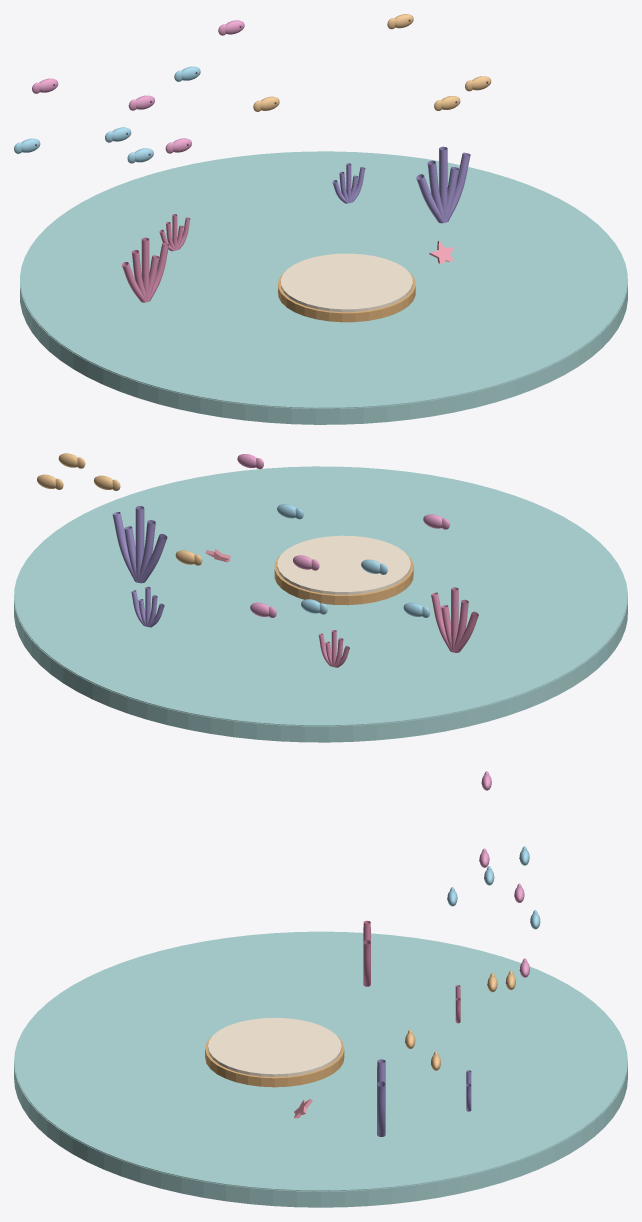
The model's file is mar.glb.
3 views of the same model, one above another, from view 1: azimuth 30°, elevation 25°; view 2: azimuth 150°, elevation 25°; view 3: azimuth 270°, elevation 25° (orthographic).
Visible parts, largest first — view 1: Diorama piping.013, Diorama base.013, Look pedestal.013, Look pedestal trim.013, Coral.007; view 2: Diorama piping.013, Diorama base.013, Look pedestal.013, Look pedestal trim.013, Coral.007, Coral.009, Coral.006, Coral.005, Coral.002; view 3: Diorama piping.013, Diorama base.013, Look pedestal.013, Look pedestal trim.013.
Part boxes in pixels (x1,y1,x2,y2): Diorama piping.013: (20, 151, 627, 408); Diorama base.013: (20, 238, 627, 424); Look pedestal.013: (280, 253, 412, 312); Look pedestal trim.013: (278, 271, 415, 322); Coral.007: (439, 146, 447, 221); Diorama piping.013: (14, 466, 627, 725); Diorama base.013: (14, 554, 627, 742); Look pedestal.013: (277, 535, 410, 594); Look pedestal trim.013: (274, 553, 413, 605); Coral.007: (135, 506, 144, 581); Coral.009: (112, 512, 136, 582); Coral.006: (138, 520, 155, 582); Coral.005: (138, 534, 167, 583); Coral.002: (451, 587, 458, 651); Diorama piping.013: (14, 931, 627, 1191); Diorama base.013: (14, 1015, 627, 1207); Look pedestal.013: (208, 1017, 341, 1076); Look pedestal trim.013: (205, 1036, 344, 1087).
Size of what is drawn, in the model's own units: 8.64 by 3.42 by 8.64.
